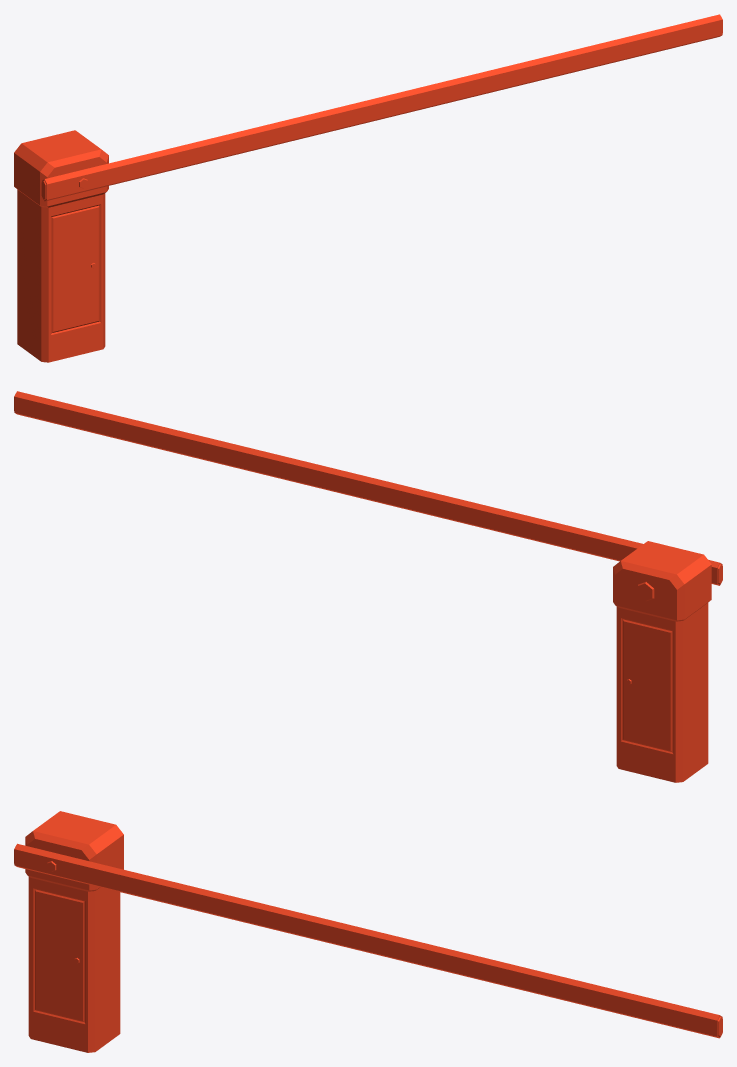
File: SM_Barrier_Parking_City.fbx
The picture shows the model from 3 angles, top to bottom: view 1: azimuth 30°, elevation 25°; view 2: azimuth 150°, elevation 25°; view 3: azimuth 330°, elevation 25°; orthographic projection. The views are drawn at different scales.
Visible parts, largest first — view 1: SM_Barrier_Parking_City_Base, SM_Barrier_Parking_City_Arm; view 2: SM_Barrier_Parking_City_Base, SM_Barrier_Parking_City_Arm; view 3: SM_Barrier_Parking_City_Base, SM_Barrier_Parking_City_Arm.
Part boxes in pixels (left/top/right/bottom): SM_Barrier_Parking_City_Base: left=14, top=130, right=108, bottom=362; SM_Barrier_Parking_City_Arm: left=41, top=14, right=722, bottom=201; SM_Barrier_Parking_City_Base: left=613, top=541, right=711, bottom=782; SM_Barrier_Parking_City_Arm: left=14, top=391, right=722, bottom=601; SM_Barrier_Parking_City_Base: left=25, top=811, right=123, bottom=1052; SM_Barrier_Parking_City_Arm: left=14, top=843, right=722, bottom=1038.
Bounding box in the file's own units: 4.01 × 1.13 × 0.3995.
